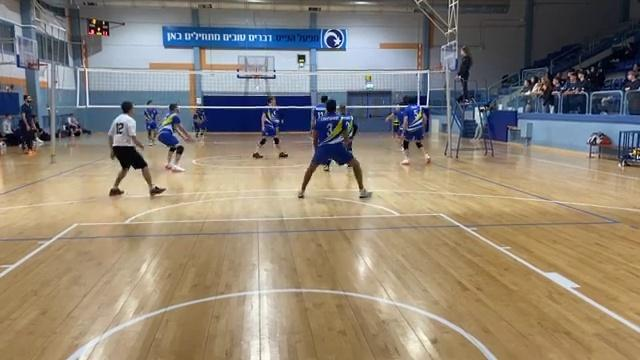ball: (363, 71, 375, 87)
